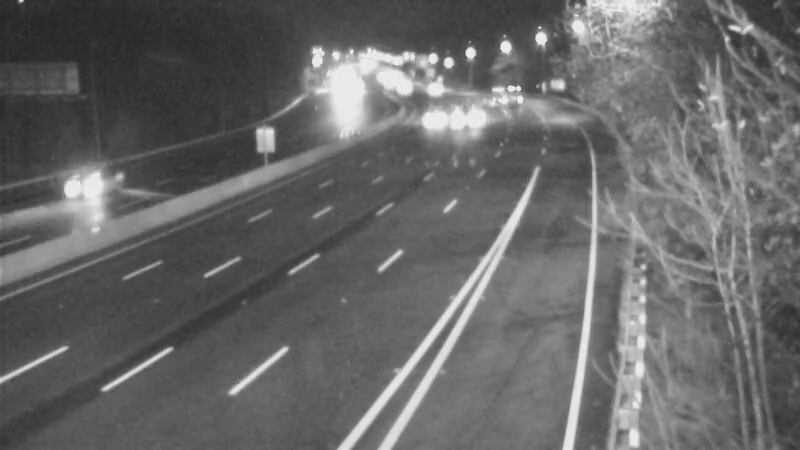vehicle: (38, 150, 118, 230), (404, 58, 454, 108), (378, 64, 428, 114), (488, 68, 538, 118), (403, 94, 453, 144), (445, 93, 495, 143)
